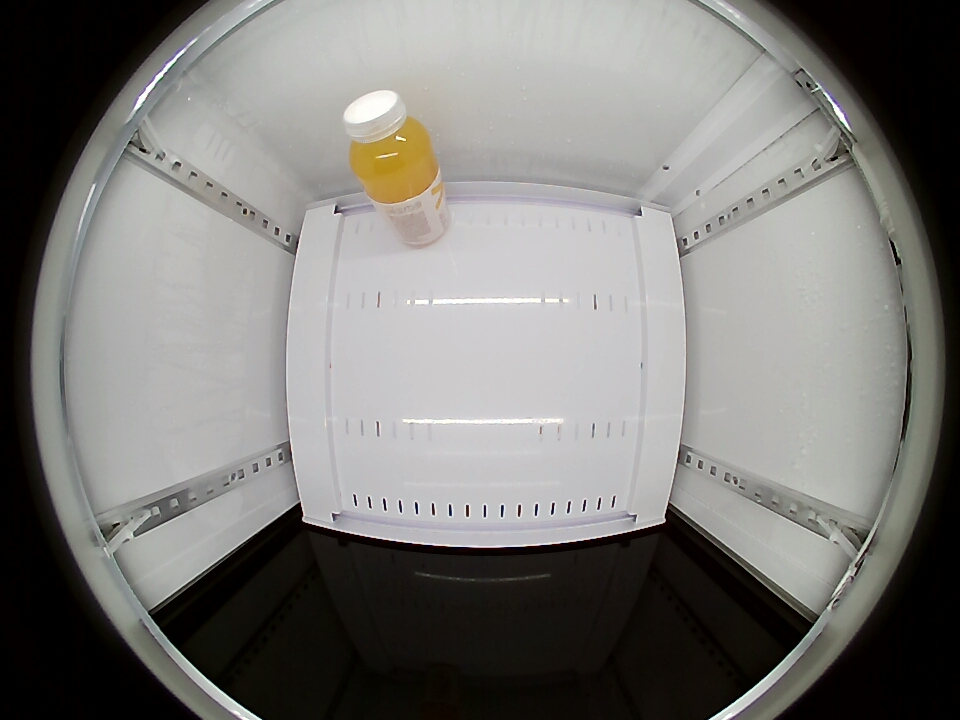weic: (344, 90, 441, 202)
